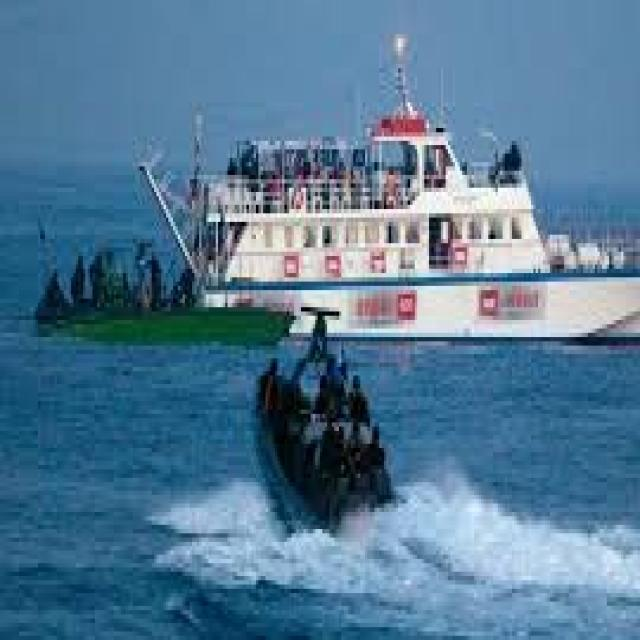houseboat: (32, 215, 284, 352), (251, 298, 385, 550)
passenger ship: (178, 120, 640, 337)
